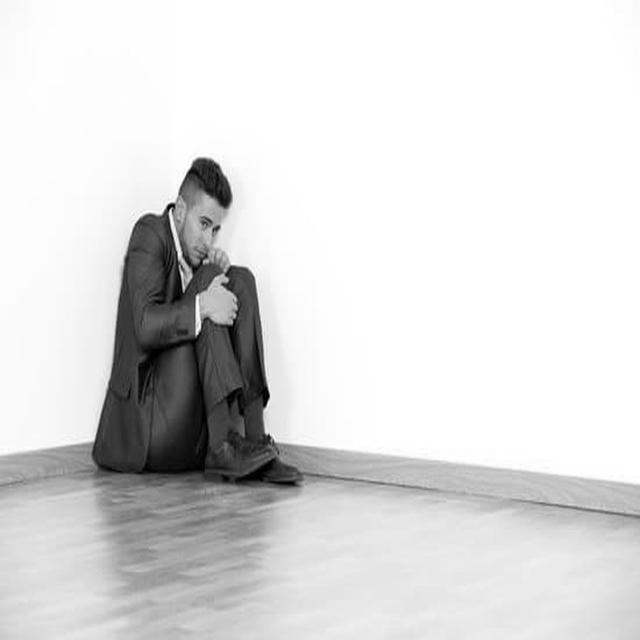Fear: (188, 184, 223, 268)
